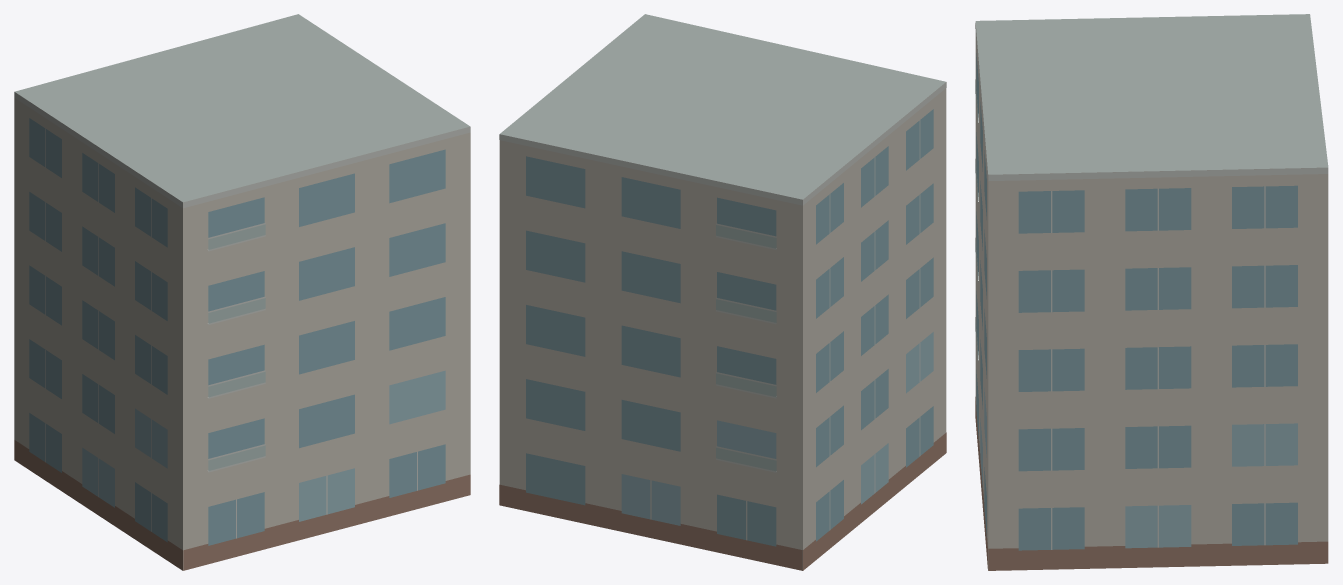
The model's file is survey-upis-32960484.glb.
The picture shows the model from 3 angles, left to right: view 1: azimuth 30°, elevation 25°; view 2: azimuth 150°, elevation 25°; view 3: azimuth 270°, elevation 25°; orthographic projection. The views are drawn at different scales.
Parts seen in each view (by area): view 1: survey-upis-32960484.tmp; view 2: survey-upis-32960484.tmp; view 3: survey-upis-32960484.tmp.
Part boxes in pixels (x1,y1,x2,y2): survey-upis-32960484.tmp: [14, 14, 470, 570]; survey-upis-32960484.tmp: [499, 14, 946, 570]; survey-upis-32960484.tmp: [975, 14, 1328, 570].
Bounding box in the file's own units: 13.15 × 15.1 × 12.21.
